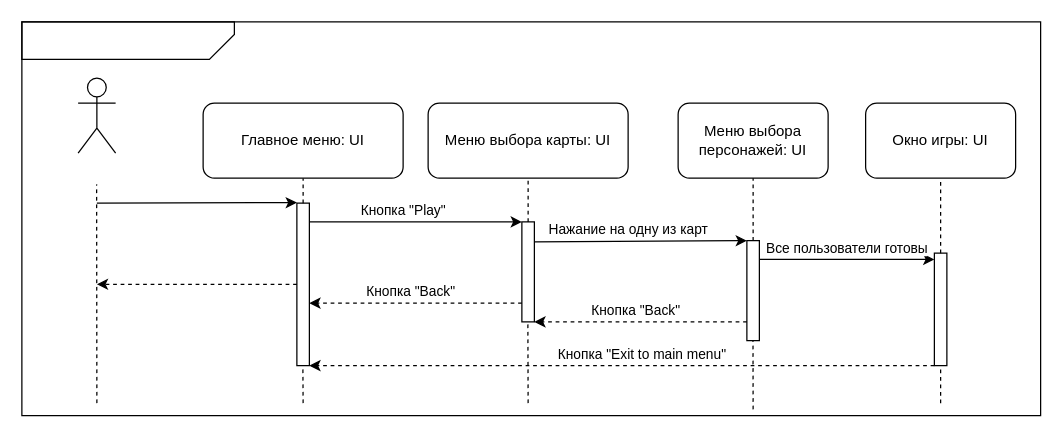
Image size: 1063x438. Some labels were removed from this diagram. The centre of each missing label's shape, as x and y in pixels:
"Начало игры" goes at point (127, 40).
"Пользователь" goes at point (96, 115).
